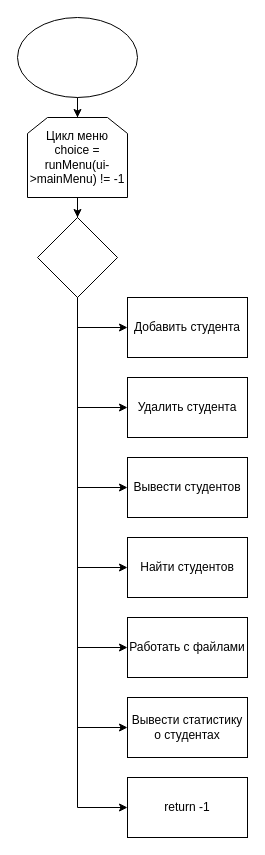
This 265x855 diagram has some shape labels left out. The shapes that lost their labels are listed below. From the top down, each one's centre as x and y in pixels, then its label:
At pixel 77 57: "Начало initMainMenu".
At pixel 77 257: "choice".
